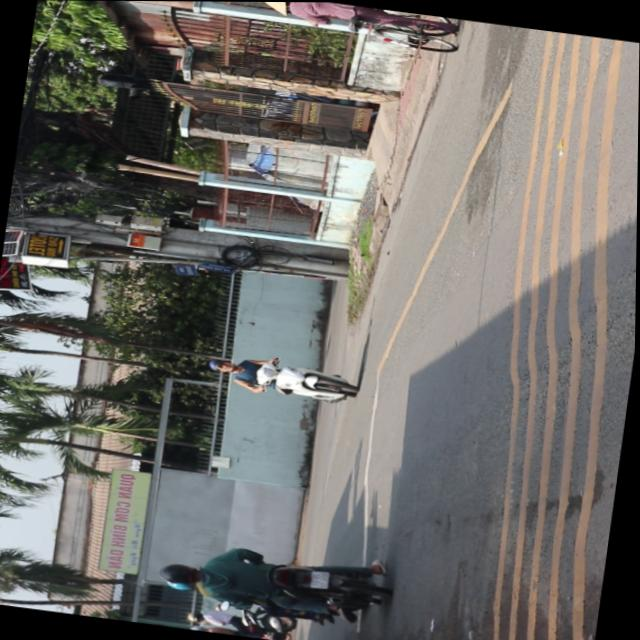helmet: (159, 557, 202, 587)
licenseplate: (155, 533, 395, 630)
nohelmet: (311, 568, 332, 586)
